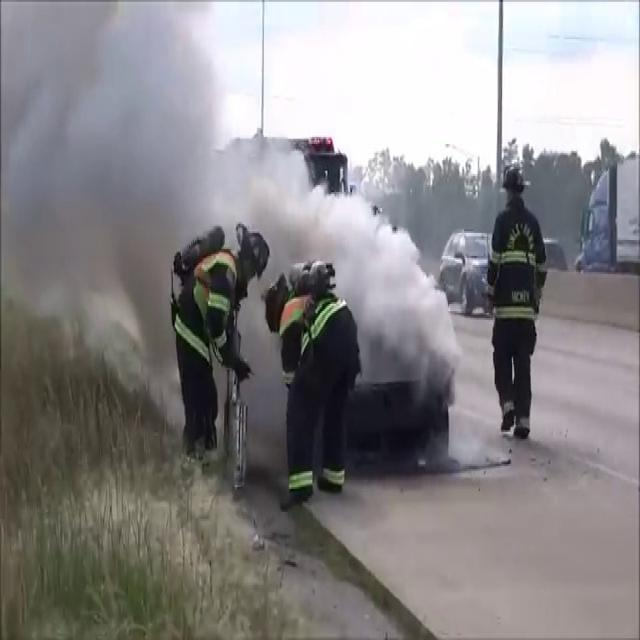Smoke: (4, 6, 456, 414)
